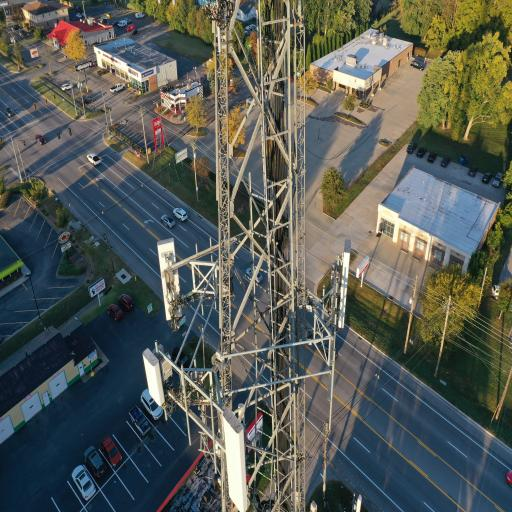supporting_tower: (161, 0, 346, 512)
